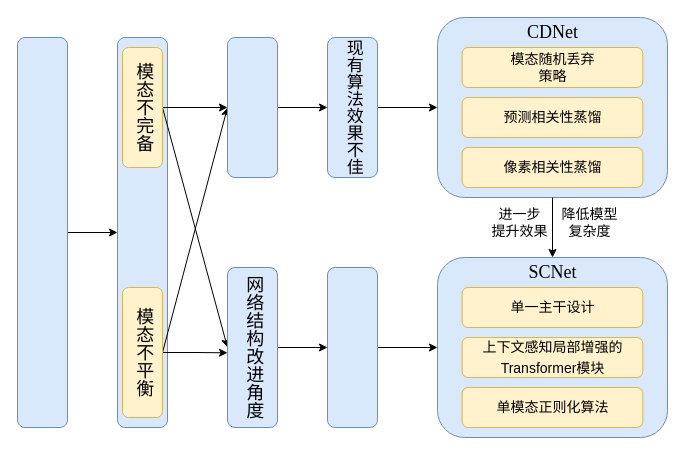
This 685x455 diagram has some shape labels left out. The centre of each missing label's shape, as x and y in pixels:
"现有结构存在不足" belongs at (x=352, y=347).
"知识蒸馏角度" belongs at (x=252, y=107).
"面向模态数据不完备的RGB-D语义分割算法研究" belongs at (x=42, y=232).
